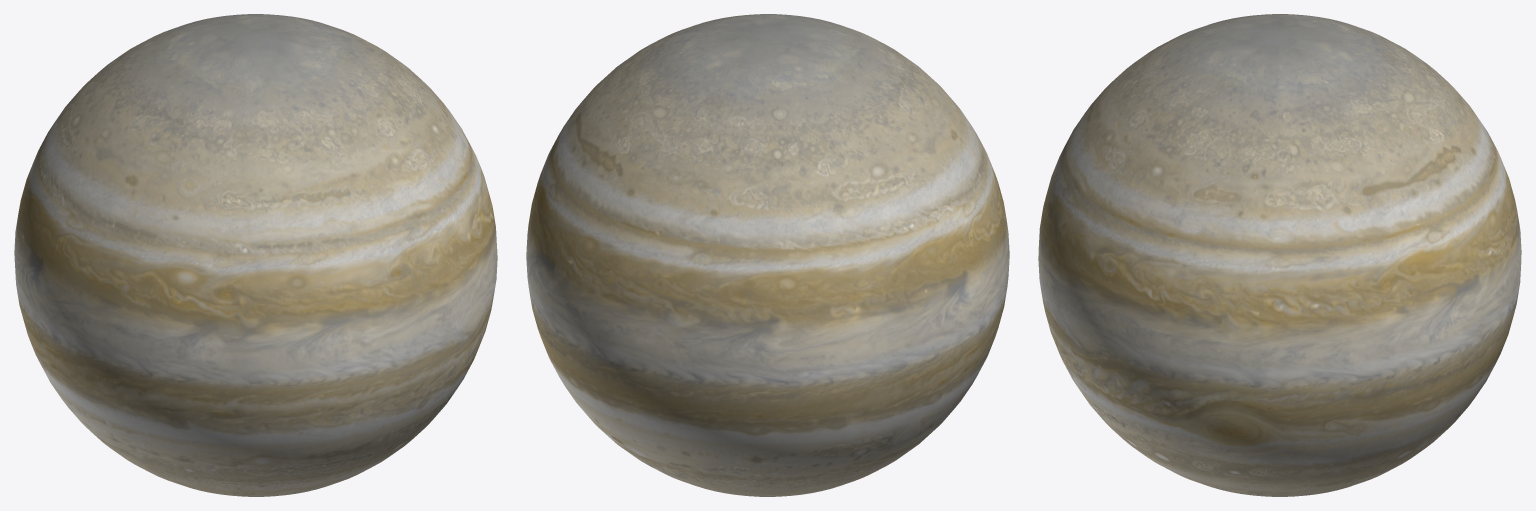
Rendered from jupiter.glb.
3 views of the same model, side by side, from view 1: azimuth 30°, elevation 25°; view 2: azimuth 150°, elevation 25°; view 3: azimuth 270°, elevation 25° (orthographic).
Visible parts, largest first — view 1: Earth; view 2: Earth; view 3: Earth.
Boxes of the visible parts, x1=… form: Earth: x1=14, y1=14, x2=497, y2=496; Earth: x1=526, y1=14, x2=1009, y2=496; Earth: x1=1038, y1=14, x2=1521, y2=496.
Bounding box in the file's own units: 2 × 2 × 2.
1 material, 1 textured.
